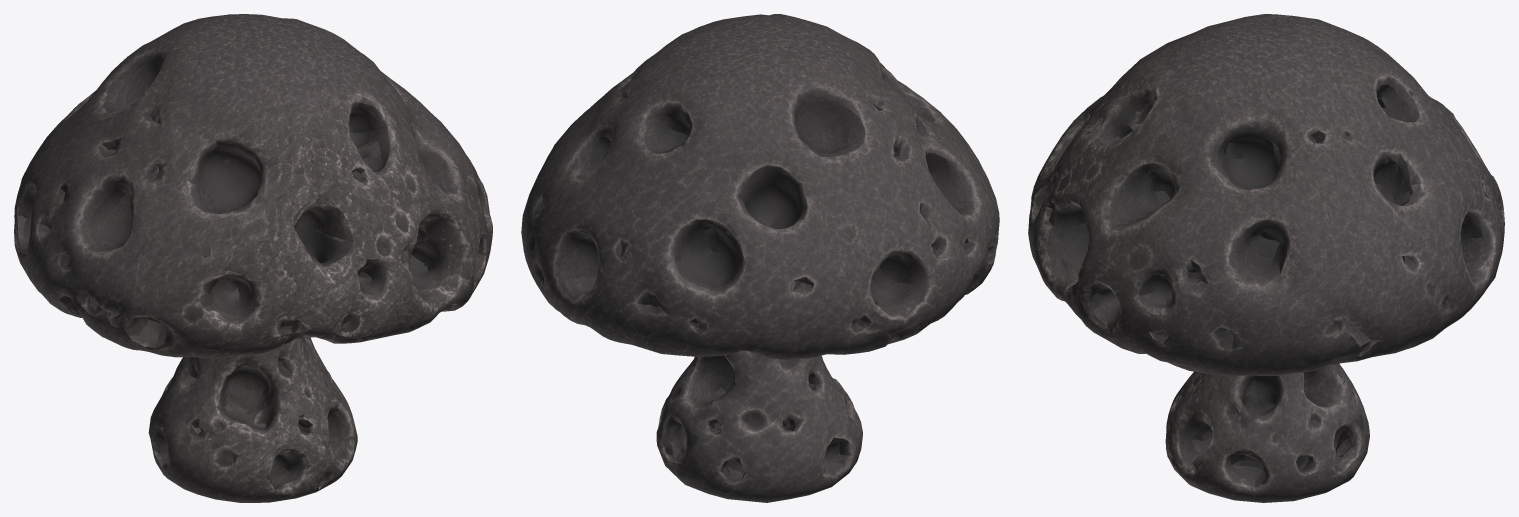
Rendered from mother-puff-corrupt-mushroom.glb.
3 renders of one model, left to right at view 1: azimuth 30°, elevation 25°; view 2: azimuth 150°, elevation 25°; view 3: azimuth 270°, elevation 25°, orthographic.
Parts seen in each view (by area): view 1: Mesh_0; view 2: Mesh_0; view 3: Mesh_0.
Boxes of the visible parts, bbox=[...] form: Mesh_0: bbox=[14, 14, 492, 502]; Mesh_0: bbox=[521, 14, 999, 502]; Mesh_0: bbox=[1028, 14, 1504, 502].
Bounding box in the file's own units: 1.89 × 1.89 × 1.88.
1 material, 1 textured.
